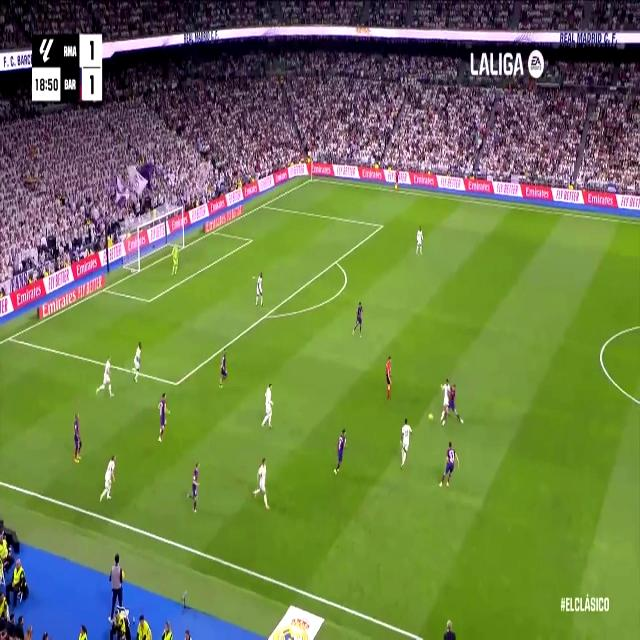bigarea_bottom_inner: (172, 373, 181, 393)
bigarea_top_inner: (378, 219, 384, 232)
bigarea_top_outter: (261, 200, 265, 208)
bottom_arc_area_intersection: (262, 308, 270, 322)
smallarea_bottom_inner: (146, 294, 152, 308)
smallarea_top_inner: (248, 236, 252, 243)
top_arc_area_intersection: (333, 255, 339, 267)
